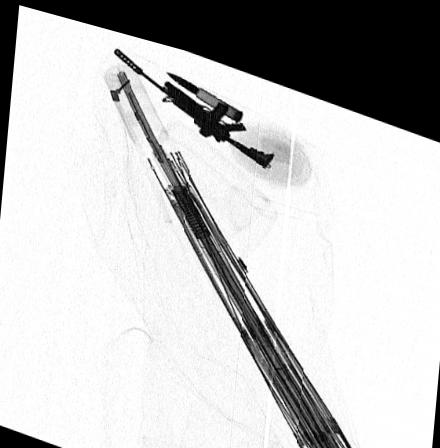Bullet: (163, 62, 242, 108)
Gun: (113, 43, 274, 154)
